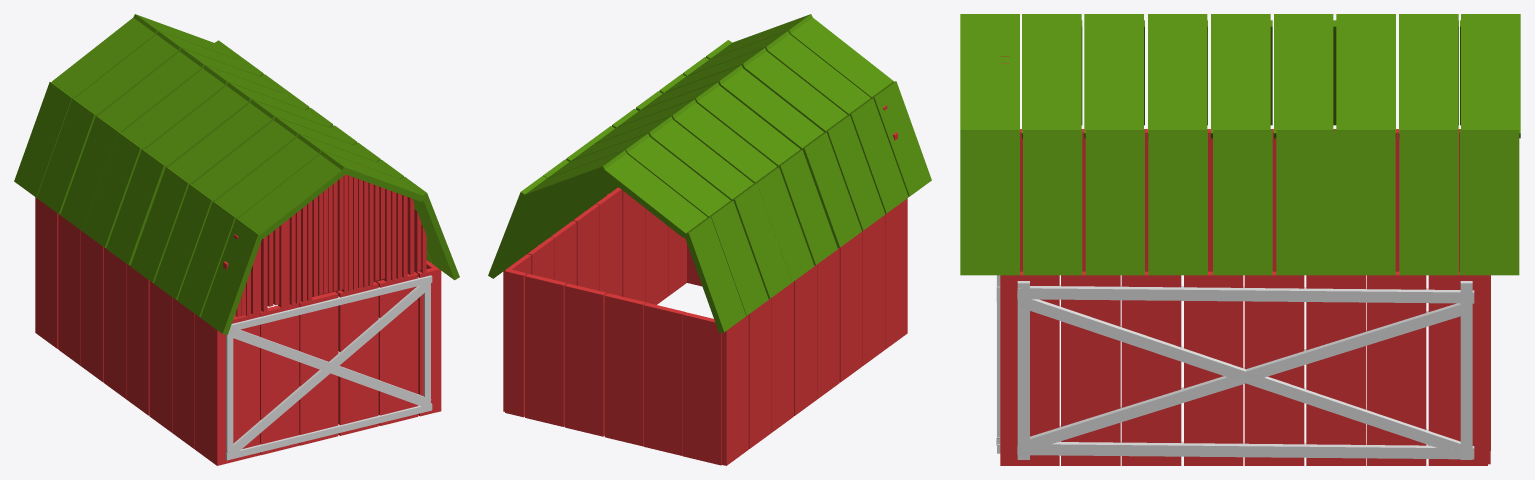
Rendered from AmbarPefect.fbx.
3 views of the same model, side by side, from view 1: azimuth 30°, elevation 25°; view 2: azimuth 150°, elevation 25°; view 3: azimuth 270°, elevation 25° (orthographic). The views are drawn at different scales.
Parts seen in each view (by area): view 1: Cube.054, Cube.055, Cube.056, Cube.053, Cube.008, Cube.052, Cube.035, Cube.017, Cube.011, Cube.010, Cube.013, Cube.015 (+64 smaller); view 2: Cube.061, Cube.059, Cube.060, Cube.062, Cube.058, Cube.015, Cube.051, Cube.033, Cube.009, Cube.010, Cube.014, Cube.041 (+42 smaller); view 3: Cube.044, Cube.042, Cube.040, Cube.034, Cube.038, Cube.046, Cube.048, Cube.050, Cube.036, Cube.004, Cube.006, Cube.002 (+25 smaller).
Part boxes in pixels (left/top/right/bottom): Cube.054: left=299, top=291, right=338, bottom=445; Cube.055: left=337, top=282, right=378, bottom=435; Cube.056: left=376, top=272, right=418, bottom=425; Cube.053: left=260, top=303, right=299, bottom=455; Cube.008: left=195, top=314, right=222, bottom=465; Cube.052: left=221, top=313, right=259, bottom=464; Cube.035: left=200, top=218, right=262, bottom=334; Cube.017: left=238, top=154, right=345, bottom=238; Cube.011: left=126, top=264, right=149, bottom=415; Cube.010: left=149, top=281, right=172, bottom=432; Cube.013: left=80, top=230, right=103, bottom=382; Cube.015: left=35, top=197, right=58, bottom=348; Cube.061: left=564, top=283, right=606, bottom=436; Cube.059: left=643, top=302, right=685, bottom=455; Cube.060: left=604, top=293, right=646, bottom=446; Cube.062: left=525, top=274, right=566, bottom=426; Cube.058: left=682, top=312, right=721, bottom=465; Cube.015: left=722, top=315, right=748, bottom=465; Cube.051: left=684, top=217, right=746, bottom=333; Cube.033: left=600, top=154, right=707, bottom=237; Cube.009: left=862, top=215, right=885, bottom=365; Cube.010: left=839, top=231, right=862, bottom=382; Cube.014: left=748, top=298, right=771, bottom=448; Cube.041: left=800, top=132, right=861, bottom=247; Cube.044: left=1276, top=129, right=1335, bottom=275; Cube.042: left=1213, top=129, right=1272, bottom=275; Cube.040: left=1148, top=129, right=1207, bottom=275; Cube.034: left=960, top=130, right=1019, bottom=275; Cube.038: left=1085, top=129, right=1144, bottom=275; Cube.046: left=1336, top=130, right=1395, bottom=275; Cube.048: left=1399, top=130, right=1458, bottom=275; Cube.050: left=1460, top=129, right=1519, bottom=275; Cube.036: left=1023, top=130, right=1082, bottom=275; Cube.004: left=1244, top=271, right=1304, bottom=465; Cube.006: left=1366, top=271, right=1426, bottom=465; Cube.002: left=1121, top=271, right=1181, bottom=465.
Size of the model in its own units: 1007 by 1145 by 1535.
